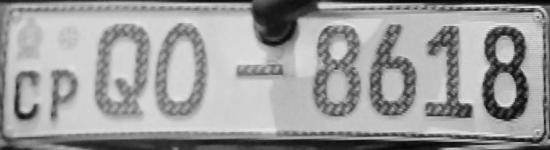-: (231, 59, 287, 84)
1: (421, 20, 480, 129)
4: (11, 66, 46, 126)
6: (368, 20, 422, 122)
8: (311, 18, 369, 125), (480, 20, 537, 125)
O: (154, 18, 214, 122)
P: (50, 66, 84, 122)
Q: (93, 18, 153, 121)
